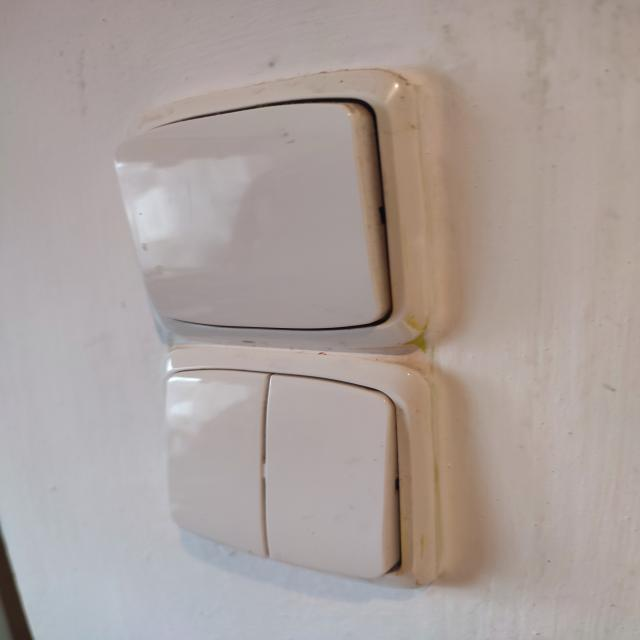house switch: (119, 85, 423, 344)
house switch double: (165, 353, 432, 593)
